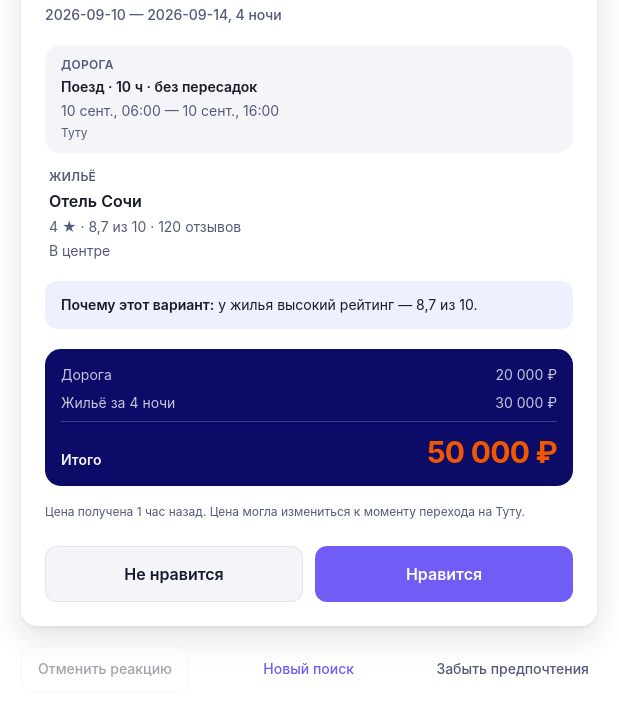
Test: swipe feed › F31: sends the human-readable dislike reason долго добираться and shows its effect
The image size is (619, 727).
(page scrolled)
Click the button "Не нравится" at (174, 574), box [45,546,303,602]
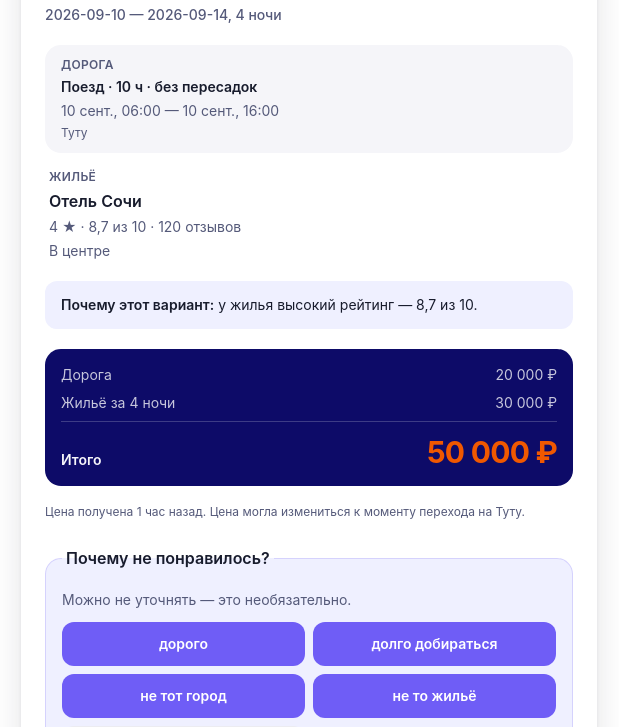
Click the button "долго добираться" at (434, 644), box [313,622,556,666]
(page scrolled)
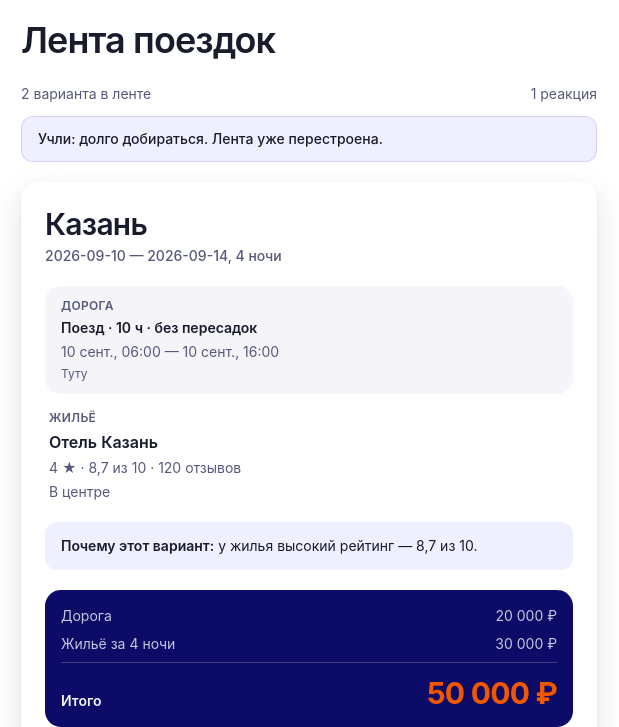
Result: the heading "Казань" is shown at [45,206,147,242]
